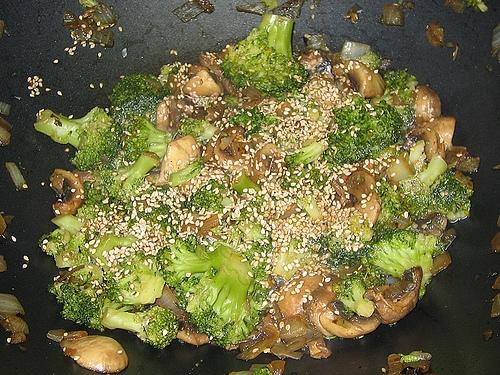broccoli: (156, 234, 269, 346), (221, 14, 310, 97), (319, 94, 403, 166), (34, 106, 123, 172), (395, 152, 473, 224), (360, 228, 446, 288), (102, 250, 166, 310), (96, 151, 160, 209), (108, 72, 172, 127), (101, 306, 179, 349), (121, 109, 172, 174), (60, 286, 105, 331), (229, 102, 282, 140), (180, 178, 234, 215), (332, 274, 376, 318), (373, 178, 406, 231), (76, 181, 114, 221), (92, 234, 138, 265), (383, 70, 419, 106), (284, 141, 324, 173), (137, 201, 171, 224), (64, 238, 79, 254), (332, 243, 347, 258)
mushroom: (363, 266, 423, 324), (330, 166, 382, 226), (277, 272, 336, 322), (60, 335, 129, 375), (148, 134, 201, 184), (245, 143, 288, 190), (320, 308, 380, 338), (49, 168, 85, 216), (344, 60, 385, 100), (214, 136, 255, 176), (402, 127, 446, 162), (155, 95, 191, 136), (296, 50, 340, 78), (420, 116, 456, 146), (413, 86, 441, 124), (183, 69, 221, 96), (415, 212, 447, 236), (199, 50, 224, 78), (430, 250, 452, 274), (426, 22, 444, 47), (230, 98, 264, 110), (0, 127, 11, 147)
onion: (60, 336, 129, 374), (62, 3, 116, 47), (156, 286, 184, 320), (386, 152, 416, 182), (171, 0, 204, 23), (0, 294, 25, 321), (341, 40, 372, 61), (5, 162, 26, 189), (426, 21, 446, 47), (270, 346, 303, 360), (197, 216, 220, 236), (384, 3, 404, 26), (285, 335, 307, 353), (455, 156, 479, 172), (237, 2, 266, 15), (388, 354, 404, 375), (491, 22, 500, 58), (240, 86, 262, 100), (442, 228, 456, 250), (46, 329, 66, 342), (270, 360, 286, 375), (0, 126, 11, 146), (491, 294, 500, 318), (0, 116, 13, 132), (309, 35, 322, 48), (1, 103, 12, 116)
